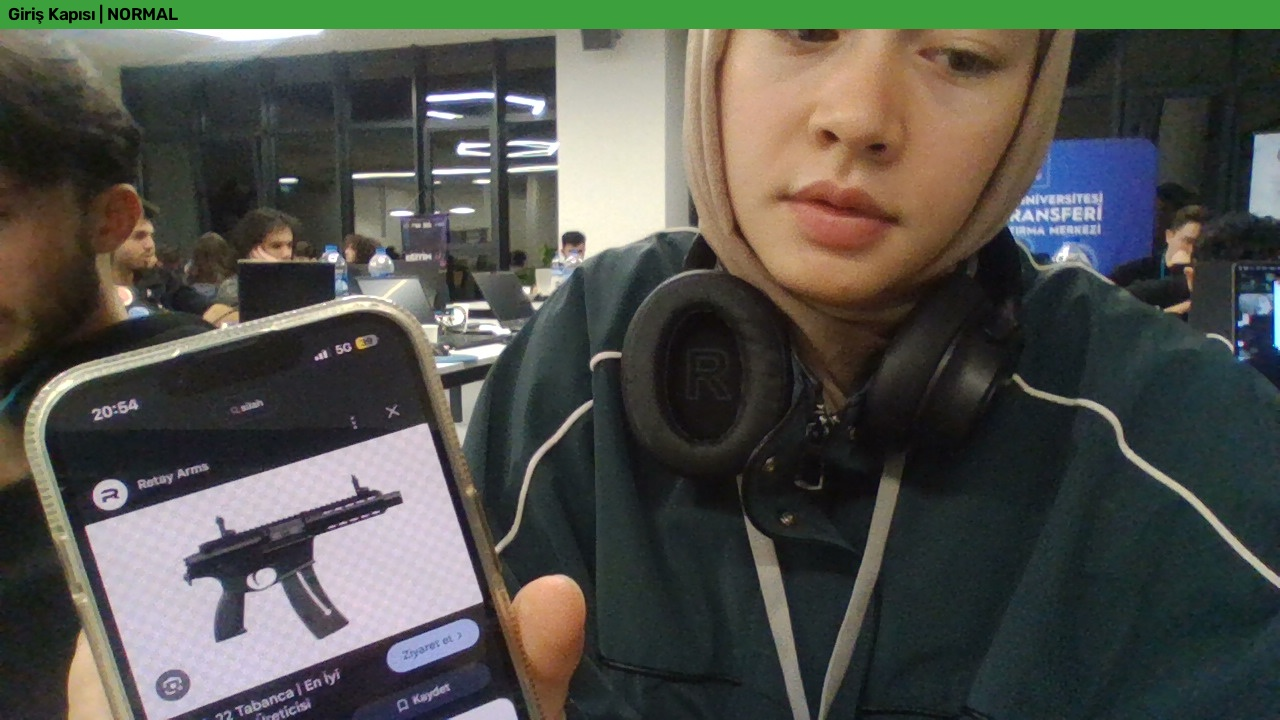weapon: (167, 421, 396, 612)
